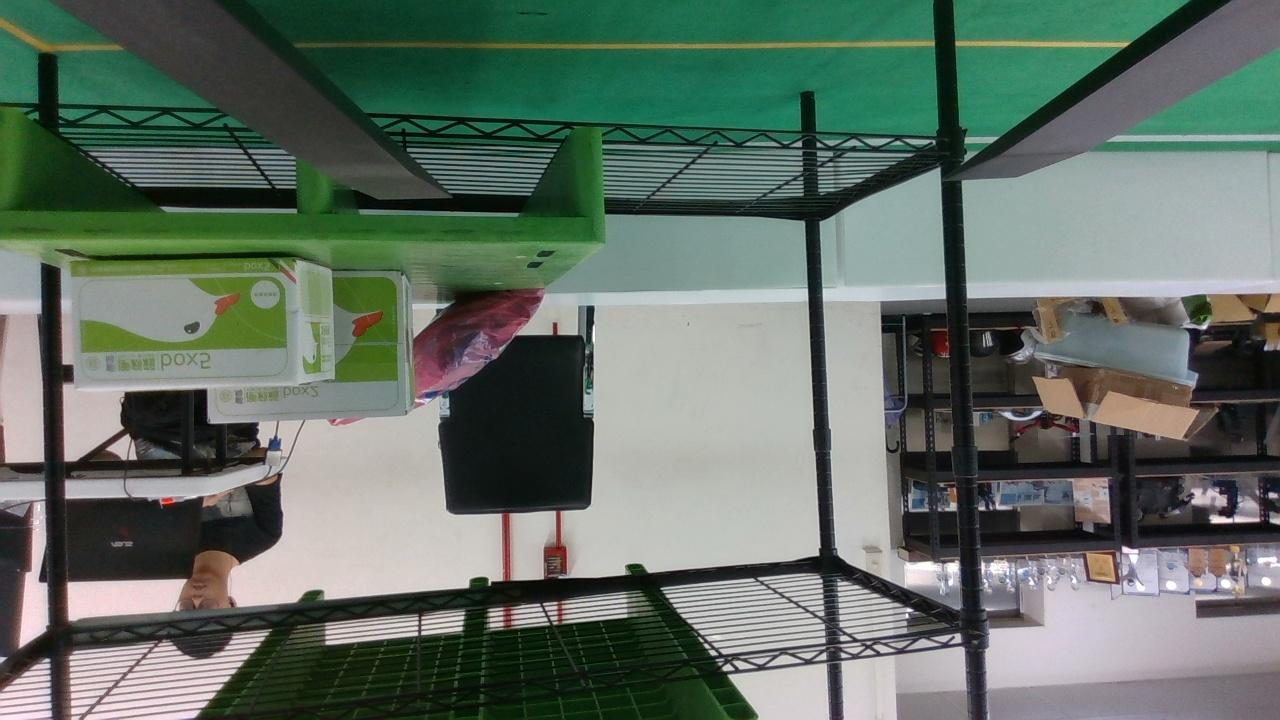Pallet: (0, 105, 609, 247)
